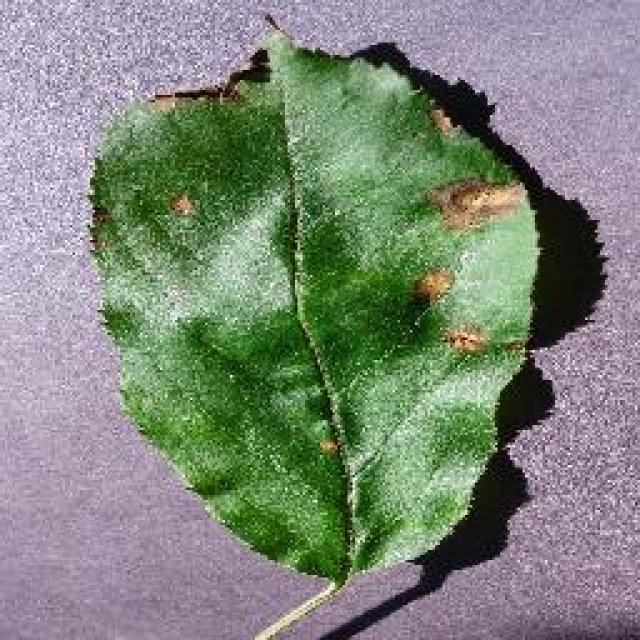Black_rot: (83, 12, 545, 638)
